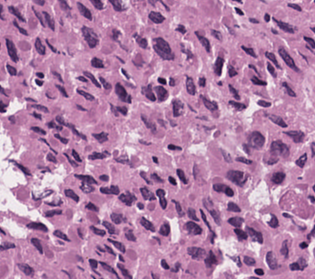nucleus: (278, 47, 298, 71), (153, 37, 173, 59), (81, 26, 97, 47), (270, 140, 288, 157), (195, 31, 210, 51), (115, 83, 130, 102), (67, 124, 86, 139), (227, 170, 246, 185), (248, 131, 264, 148), (100, 262, 118, 277), (84, 71, 100, 87), (246, 227, 262, 243), (200, 209, 211, 231), (213, 184, 233, 196), (268, 114, 286, 127), (285, 130, 304, 142), (201, 96, 217, 110), (141, 115, 155, 131), (207, 207, 220, 224), (108, 239, 125, 252), (265, 52, 279, 67), (142, 84, 155, 100), (119, 192, 135, 205), (185, 221, 201, 234), (172, 99, 184, 116), (187, 247, 205, 258), (266, 251, 277, 269), (140, 217, 154, 231), (172, 200, 184, 216), (75, 174, 96, 183), (77, 89, 94, 100), (282, 82, 295, 96), (140, 187, 154, 200), (118, 264, 131, 278), (27, 222, 47, 231), (214, 56, 223, 75), (100, 185, 119, 194), (134, 34, 147, 47), (64, 153, 77, 166), (155, 86, 167, 100), (88, 151, 109, 159), (64, 189, 78, 201), (241, 46, 256, 57), (228, 84, 239, 99), (54, 230, 69, 241), (31, 238, 42, 253), (205, 251, 216, 266), (186, 76, 195, 94), (35, 38, 45, 54), (176, 169, 187, 183), (229, 100, 245, 109), (56, 84, 67, 97), (271, 172, 284, 183), (234, 228, 247, 239), (93, 132, 107, 142), (296, 153, 306, 167), (228, 217, 242, 227), (31, 104, 48, 112), (280, 240, 288, 257), (90, 226, 105, 235), (103, 221, 114, 233), (304, 36, 314, 49), (80, 182, 93, 192), (268, 214, 278, 227), (99, 77, 110, 88), (91, 57, 103, 67), (228, 202, 240, 212), (188, 208, 198, 220), (111, 213, 123, 223), (159, 223, 169, 235), (125, 229, 135, 241), (54, 134, 67, 143), (251, 76, 265, 84), (31, 126, 45, 134), (211, 29, 221, 40), (52, 72, 63, 82), (72, 149, 81, 161), (222, 150, 231, 162), (140, 171, 149, 183), (297, 257, 306, 269), (46, 40, 55, 51), (55, 116, 66, 125), (151, 173, 162, 182), (244, 256, 255, 265), (267, 64, 275, 76), (45, 210, 61, 216), (116, 156, 129, 163), (236, 157, 251, 163), (105, 245, 114, 255), (228, 65, 236, 76), (116, 106, 127, 114), (86, 203, 97, 211), (159, 196, 166, 208), (47, 153, 56, 162), (161, 259, 169, 269), (257, 100, 270, 106), (112, 29, 119, 40), (110, 104, 117, 115), (232, 257, 240, 266), (89, 259, 97, 268), (290, 262, 299, 270), (121, 68, 128, 78), (249, 64, 257, 72), (168, 176, 176, 184), (156, 189, 164, 197), (168, 144, 180, 149), (308, 227, 314, 237), (158, 77, 166, 84), (255, 268, 263, 275), (199, 77, 205, 86), (243, 144, 249, 153), (76, 104, 84, 110), (299, 242, 307, 248), (173, 263, 179, 271), (32, 113, 41, 118), (47, 122, 56, 127), (35, 79, 42, 85), (311, 142, 314, 156), (78, 76, 86, 81), (169, 77, 174, 85), (140, 140, 150, 144), (137, 202, 143, 208), (100, 175, 107, 180), (37, 72, 43, 77), (152, 156, 157, 162), (309, 196, 314, 202), (283, 213, 289, 217), (119, 255, 123, 261), (56, 126, 61, 130)
